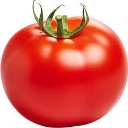tomato: (1, 17, 128, 127)
